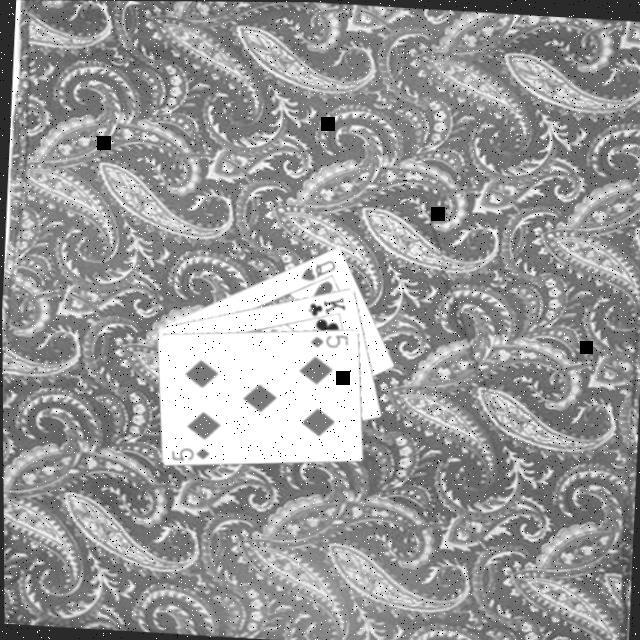5D: (166, 444, 212, 466), (305, 330, 350, 352)
KC: (302, 292, 348, 326)
QH: (296, 255, 337, 285)
